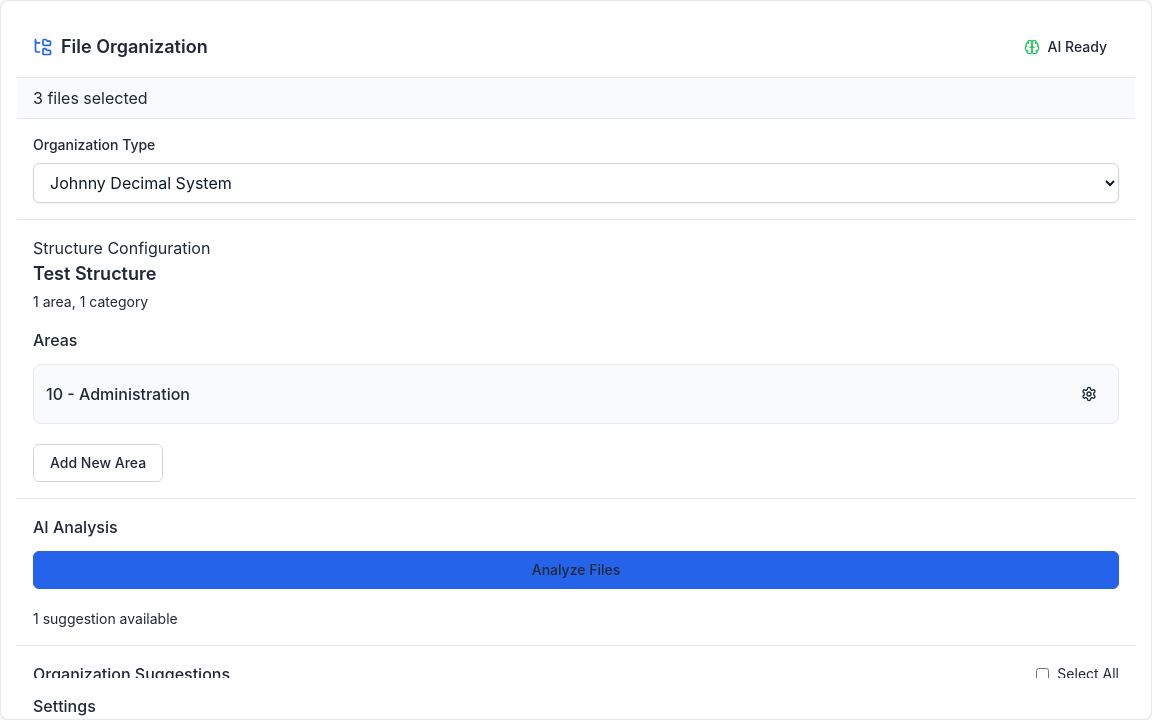
it: OrganizationPanel Component › Batch Operations › shows batch action buttons when suggestions selected
What coordinates should you click on to do the following:
click the checkbox labelled "Select All"
I would click on:
 (1043, 674)
Its box is [1036,668,1049,680].
(page scrolled)
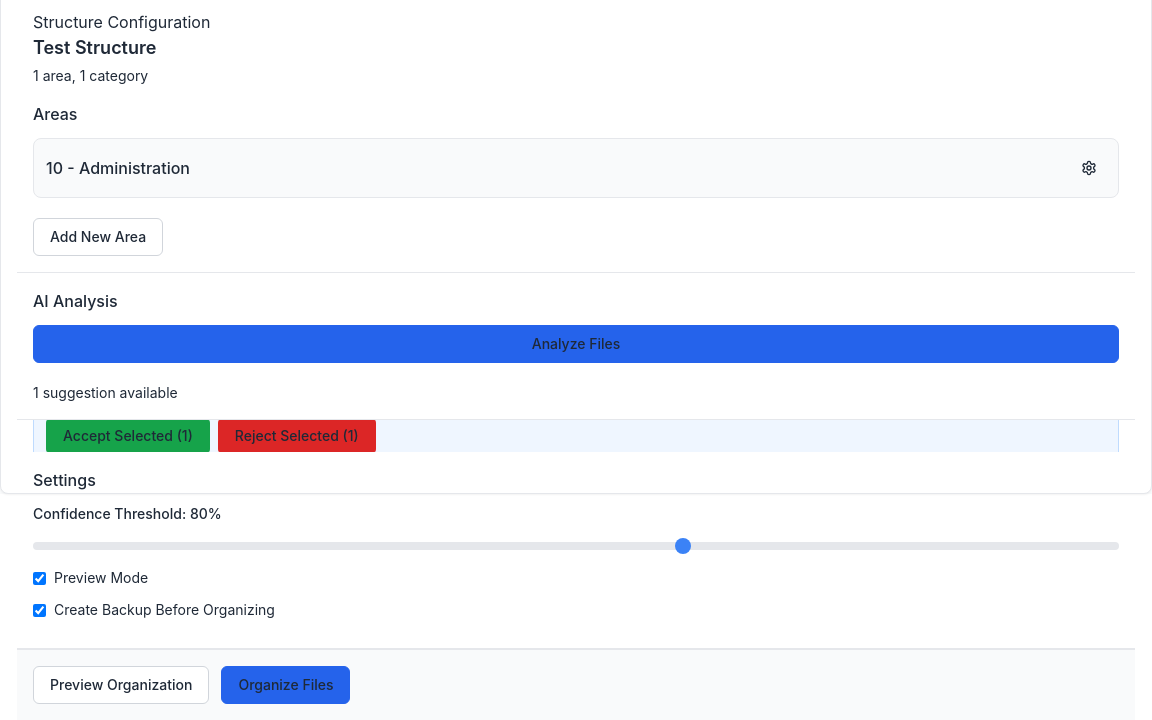
Expected: the button "Accept Selected (1)" is shown, [46,420,210,452]
Expected: the button "Reject Selected (1)" is shown, [218,420,376,452]
